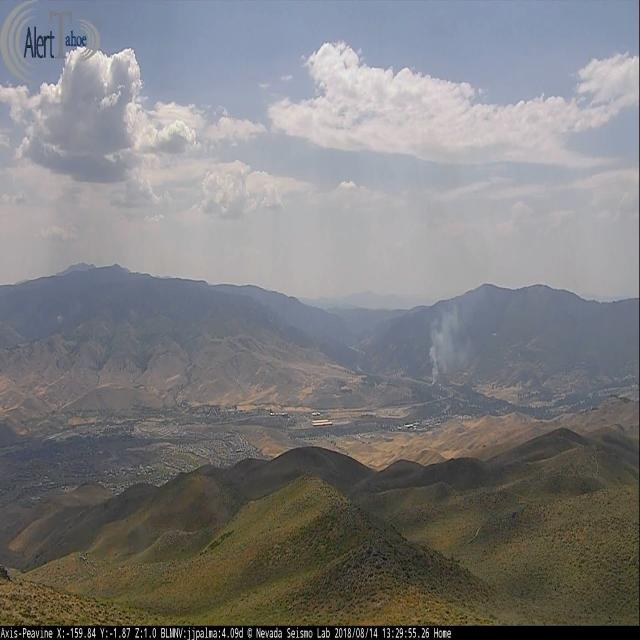smoke: (428, 298, 471, 392)
